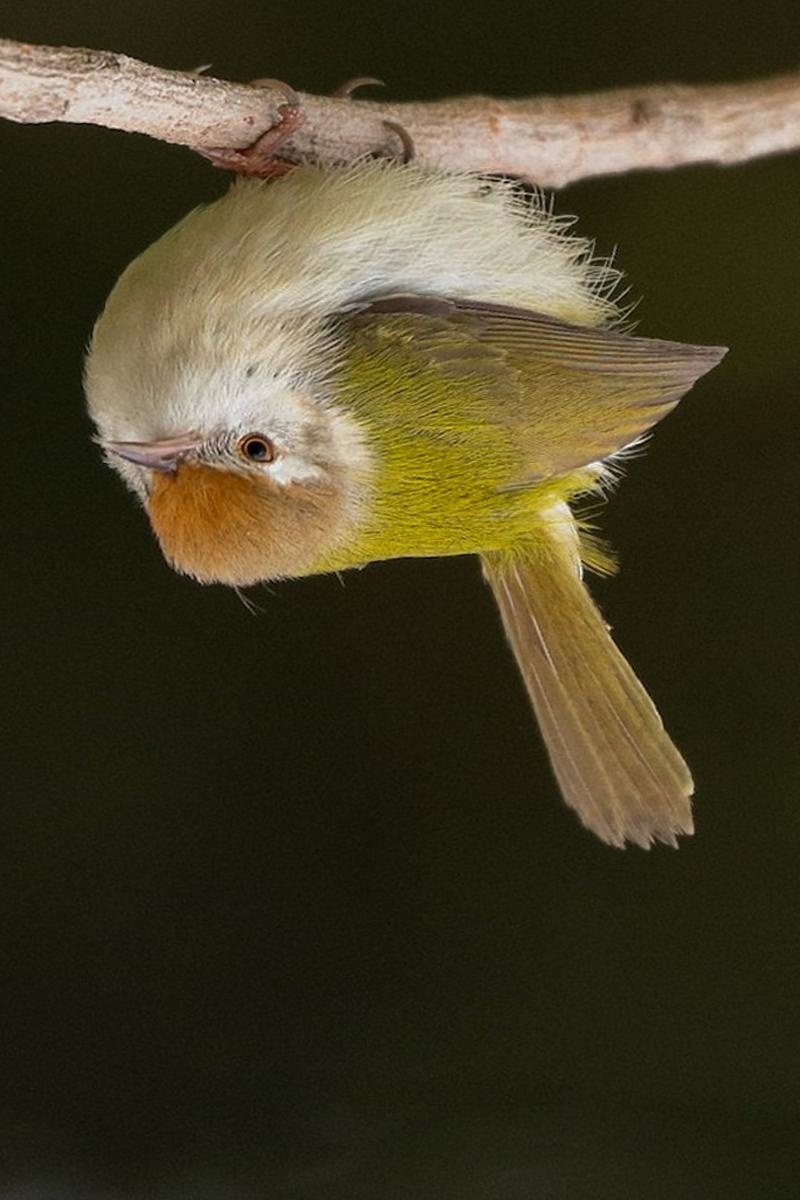tailorbird: (70, 75, 741, 917)
